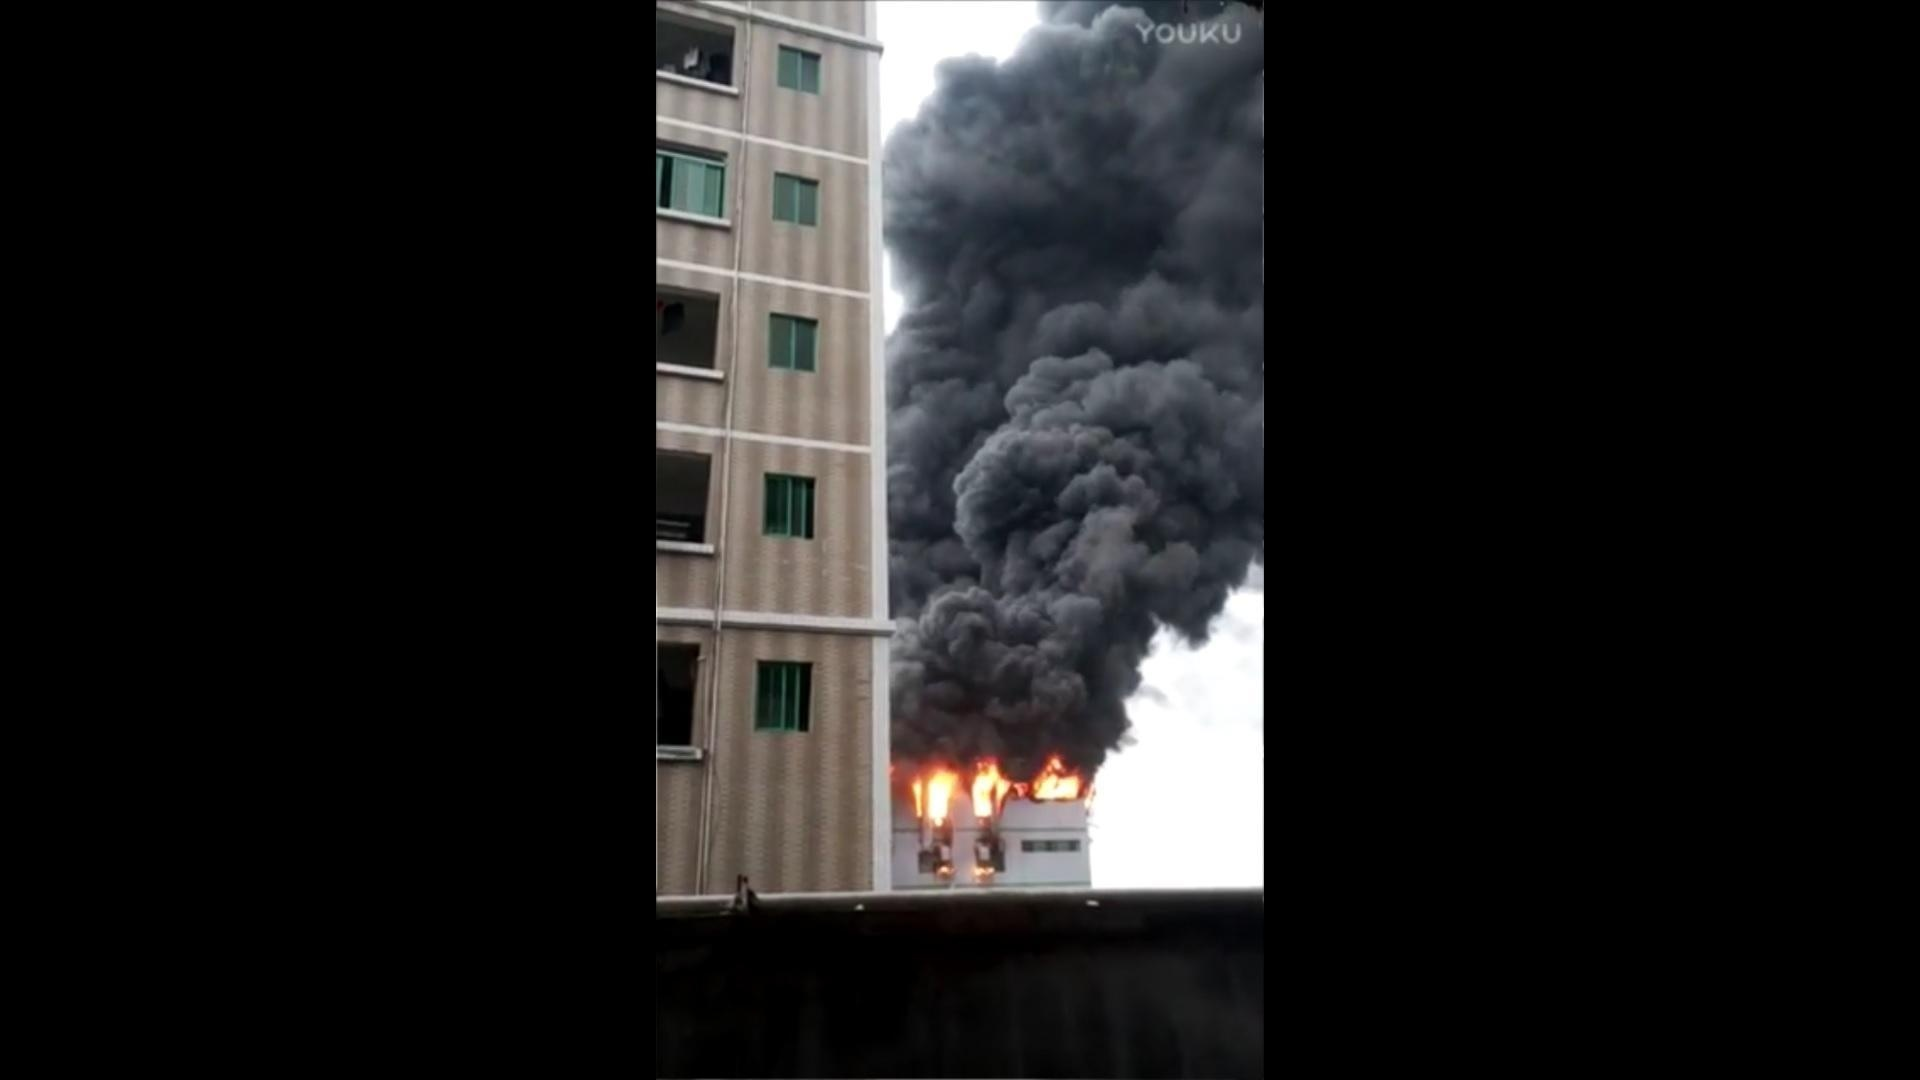fire: (902, 752, 1087, 823)
